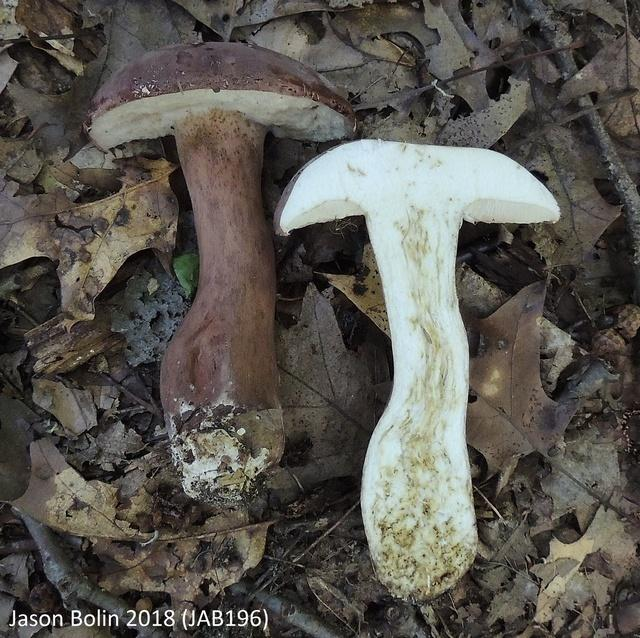poisonous_mushroom: (273, 135, 561, 602), (82, 38, 357, 506)
